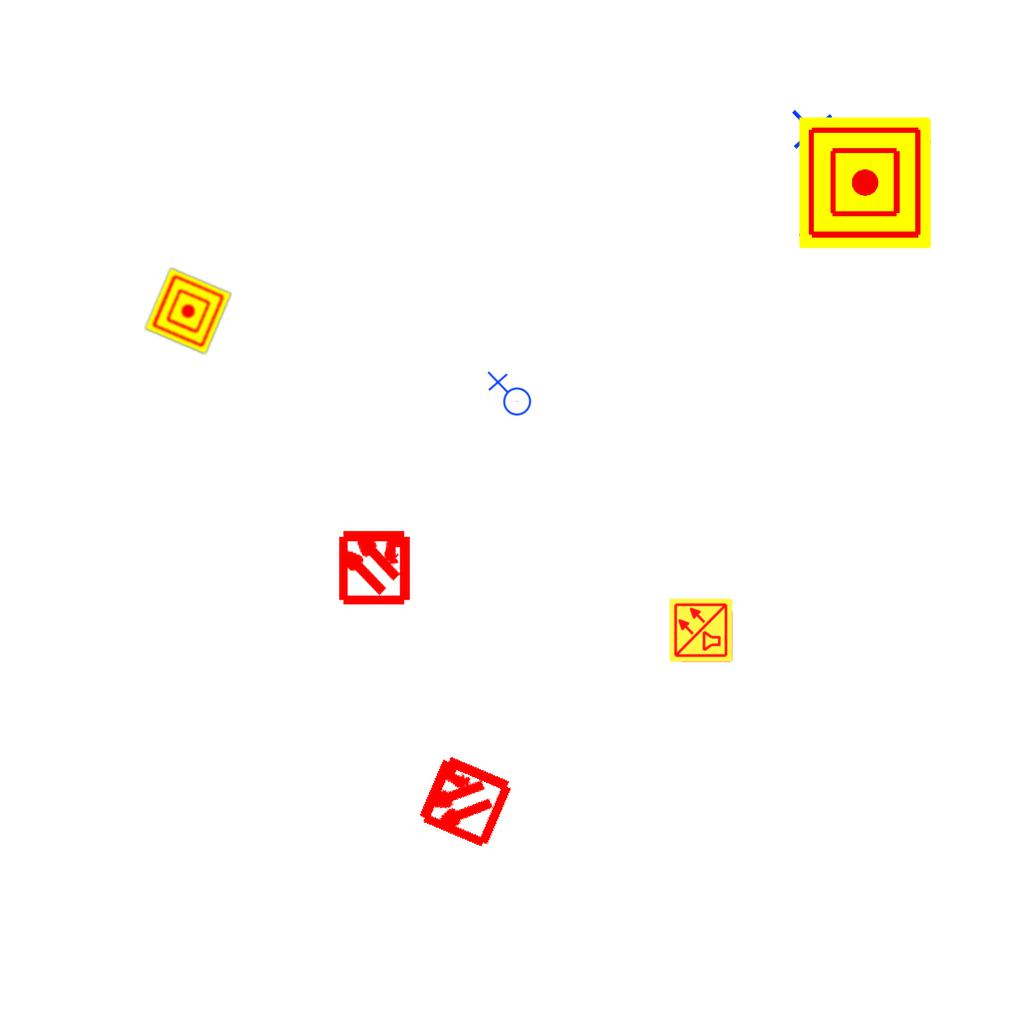Elektroanschluss_allgemein_230V_Geraeteanschlussdose_230V: (787, 109, 881, 208), (485, 371, 532, 420)
NAM-Nichtautomatischer_Melder: (799, 117, 931, 249), (144, 267, 232, 355)
OKW_Multisensormelder_(Kombination_optischer_Rauch-Kahlenmonoxid_Waerme-Melder): (668, 597, 734, 663)
OT_Multisensormelder_(Kombination_RMO_WMD): (389, 726, 538, 875), (318, 509, 431, 622)
